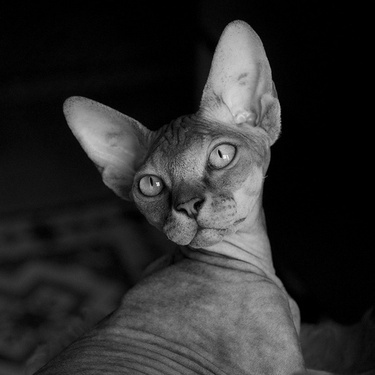cat: (31, 20, 309, 372)
